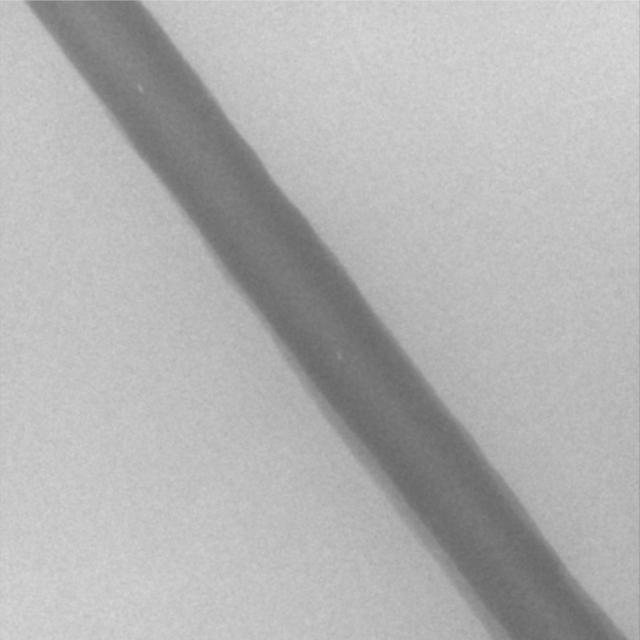air hole: (136, 82, 144, 94), (335, 351, 343, 361)
